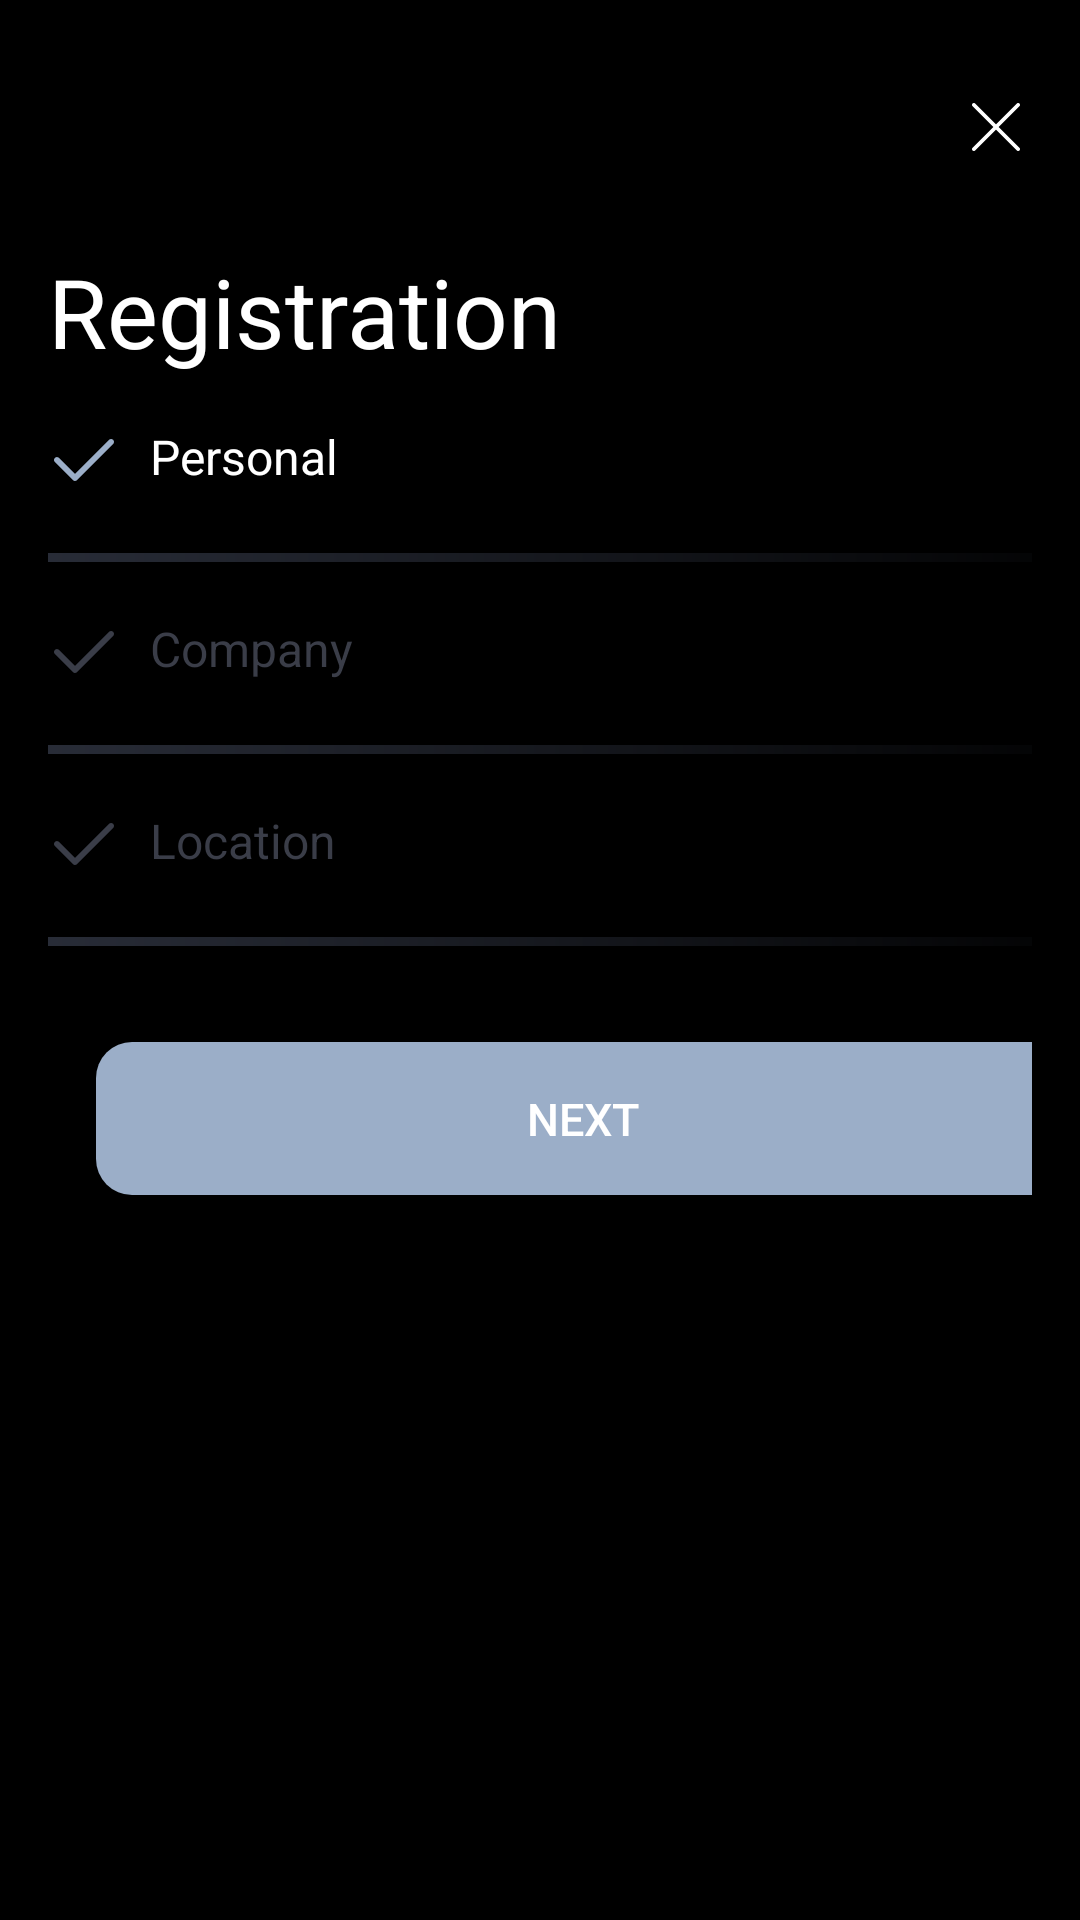

Icons on this 1080px x 1920px Android screen, each with its box as bbox(x1, y1, x2, y2):
close: bbox(972, 103, 1020, 151)
